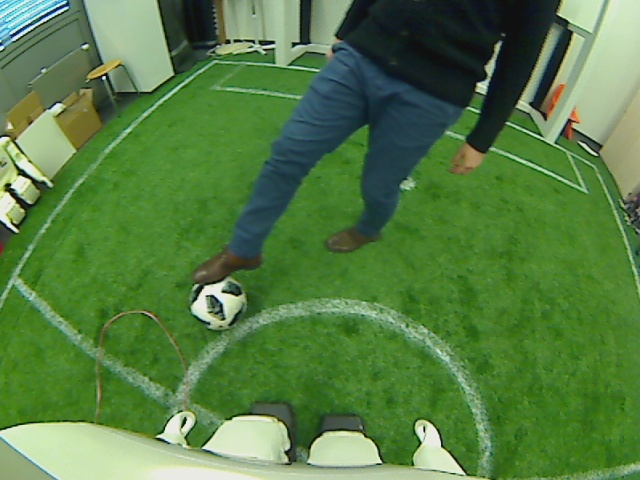ball: (192, 277, 247, 329)
